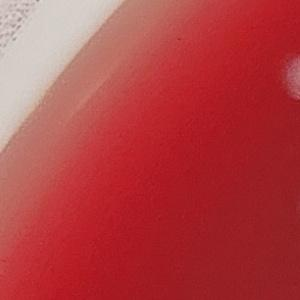colony: (272, 51, 300, 108)
